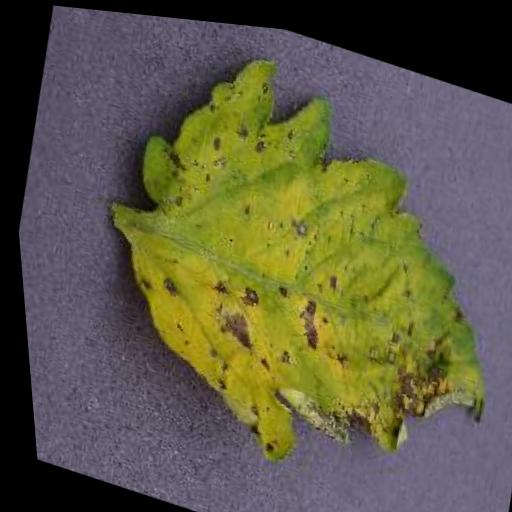Septoria: (51, 10, 512, 512)
